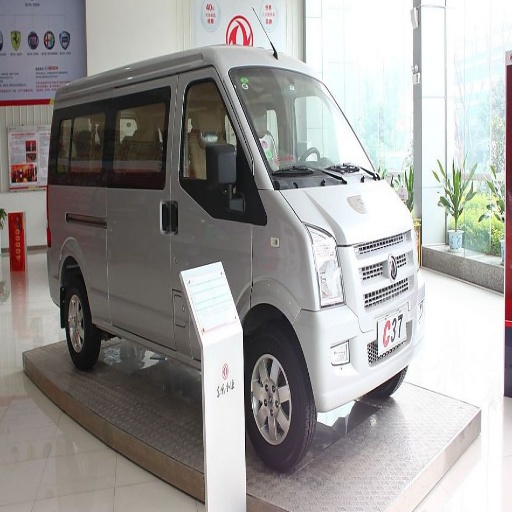front_bumper: (305, 231, 421, 392)
front_right_door: (165, 72, 254, 264), (144, 288, 177, 338)
front_right_light: (311, 230, 345, 304)
trunk: (26, 188, 105, 290), (124, 235, 172, 289)
